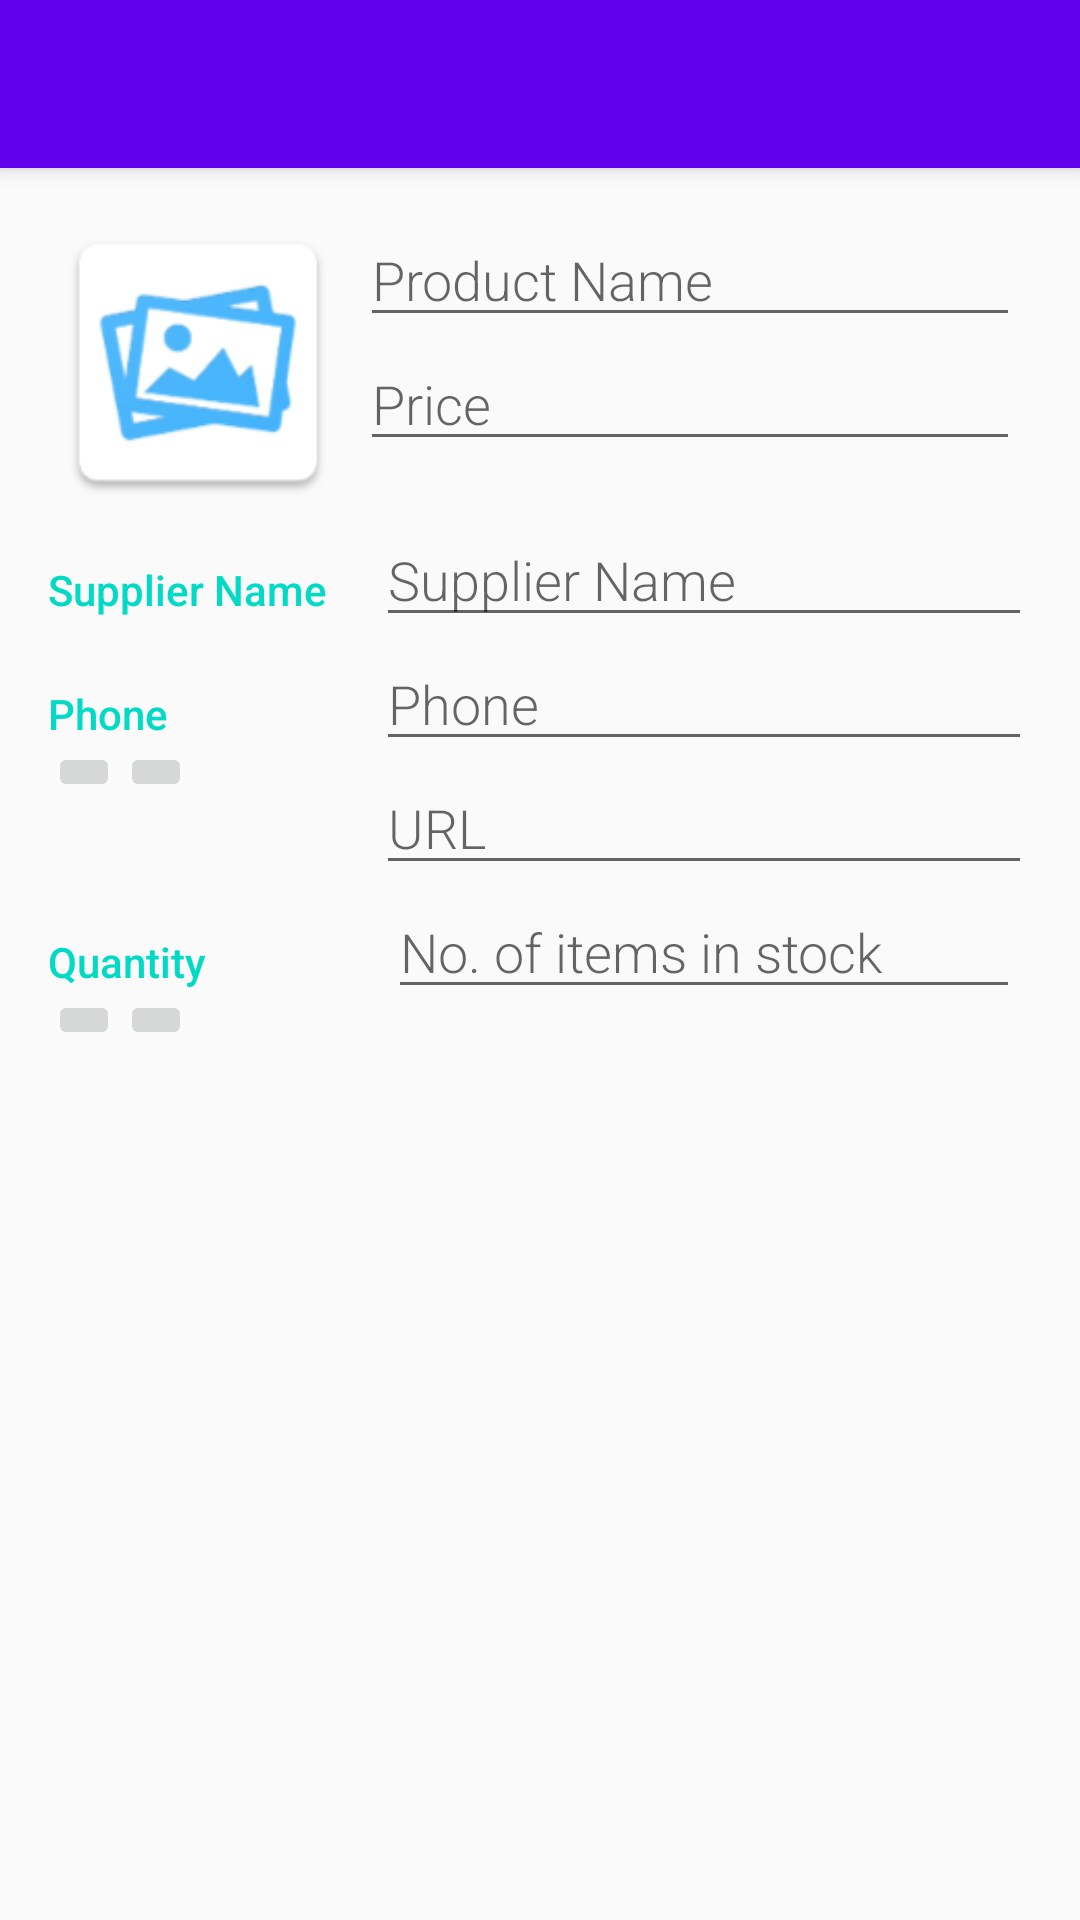

Where icons sit on this 1080×1920 app screen, as box=[x1, y1, x2, y2]:
Click to change product image: box=[77, 266, 319, 488]
